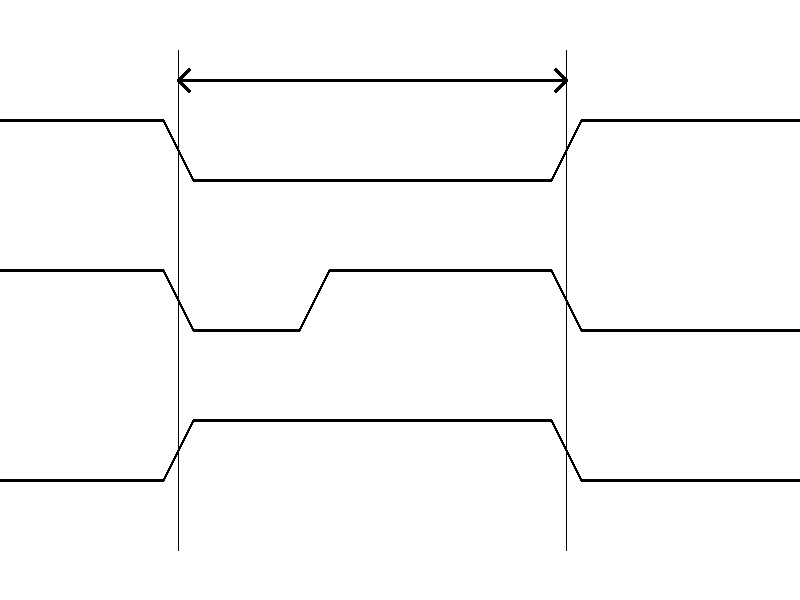double_arrow: (178, 65, 566, 95)
